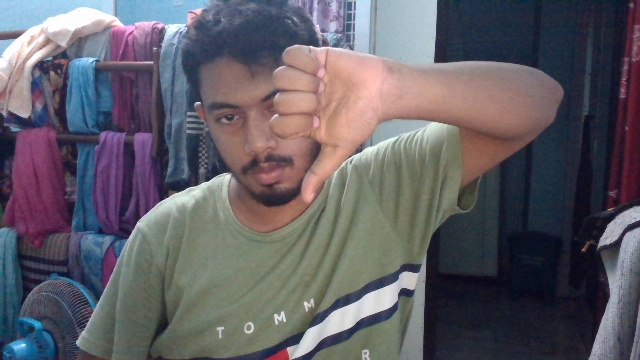no: (264, 33, 388, 206)
